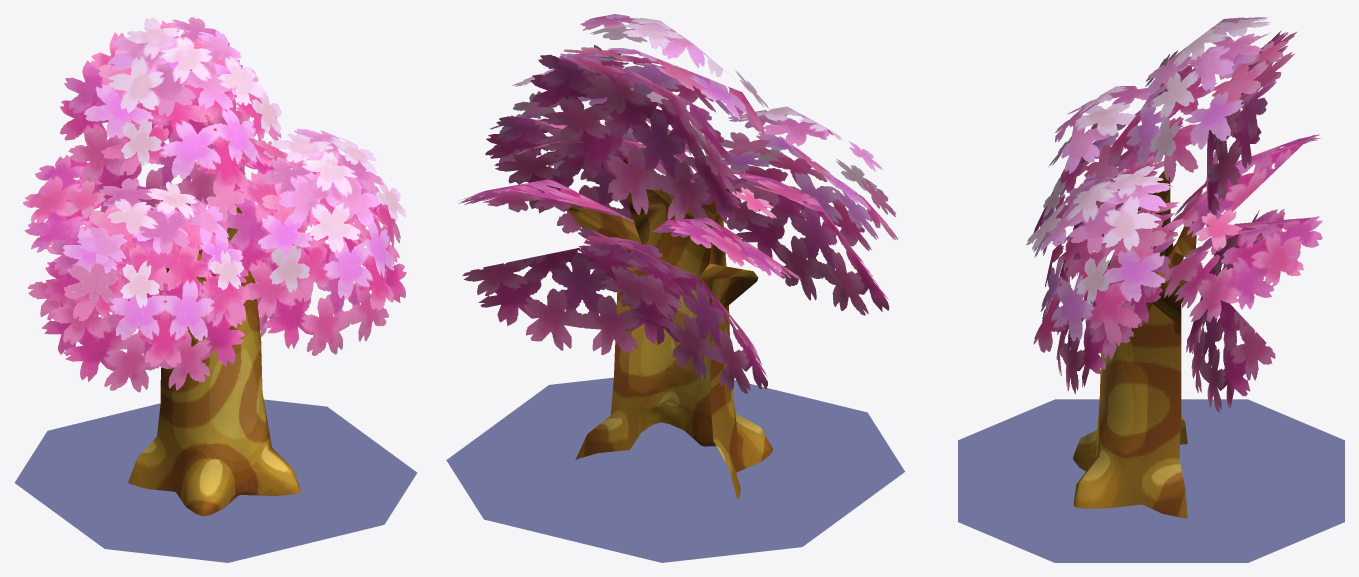
File: fg_treeA_4_mcs.fbx
3 views of the same model, side by side, from view 1: azimuth 30°, elevation 25°; view 2: azimuth 150°, elevation 25°; view 3: azimuth 270°, elevation 25° (orthographic). The views are drawn at different scales.
Parts seen in each view (by area): view 1: fg_treeA_4_mcs, sdw_treeA; view 2: fg_treeA_4_mcs, sdw_treeA; view 3: fg_treeA_4_mcs, sdw_treeA.
Boxes of the visible parts, <box> form: fg_treeA_4_mcs: <box>23,17,406,516</box>; sdw_treeA: <box>14,399,417,562</box>; fg_treeA_4_mcs: <box>458,14,897,499</box>; sdw_treeA: <box>446,377,904,562</box>; fg_treeA_4_mcs: <box>1026,17,1322,518</box>; sdw_treeA: <box>958,399,1344,562</box>.
Bounding box in the file's own units: 0.3561 × 0.3967 × 0.3.
